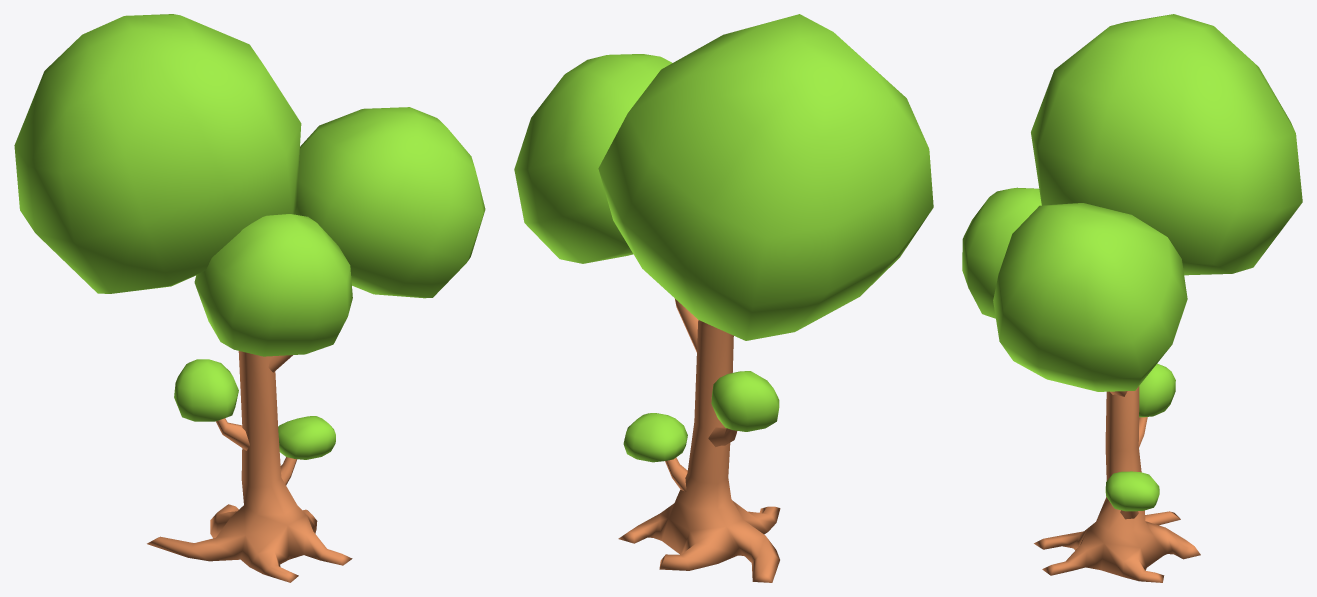
The model's file is Tree_Large.fbx.
3 renders of one model, left to right at view 1: azimuth 30°, elevation 25°; view 2: azimuth 150°, elevation 25°; view 3: azimuth 270°, elevation 25°, orthographic. The views are drawn at different scales.
Parts seen in each view (by area): view 1: tree_big; view 2: tree_big; view 3: tree_big.
Boxes of the visible parts, x1=… form: tree_big: x1=14, y1=14, x2=485, y2=582; tree_big: x1=514, y1=14, x2=933, y2=582; tree_big: x1=962, y1=14, x2=1302, y2=582.
Size of the model in its own units: 942 by 1195 by 758.
